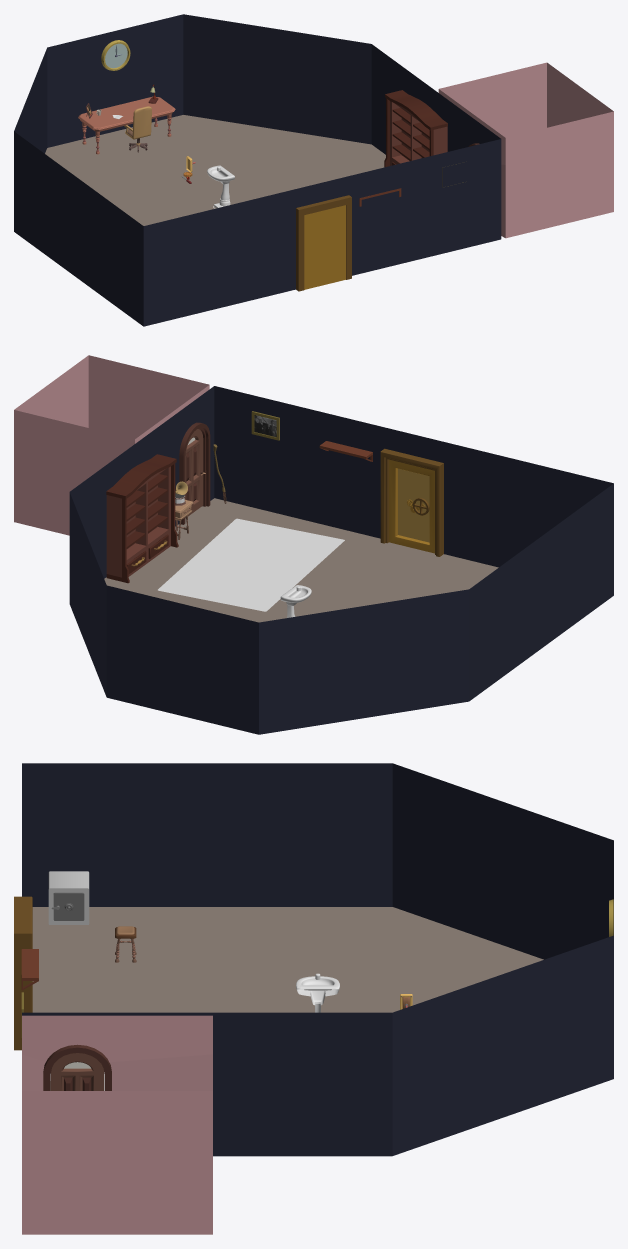
Rendered from Blended.fbx.
The picture shows the model from 3 angles, top to bottom: view 1: azimuth 30°, elevation 25°; view 2: azimuth 150°, elevation 25°; view 3: azimuth 270°, elevation 25°; orthographic projection. The views are drawn at different scales.
Parts seen in each view (by area): view 1: Room, Door_Main_Body, Bookshelf_Body, Door_Main_Frame, Table_BP_Top, Bookshelf_Shelves, Bookshelf_Top, Clock_Big_Base, Chair_Base; view 2: Room, Rug_01, Bookshelf_Body, Door_Main_Body, Door_Main_Frame, Bookshelf_Shelves, Door_Bath_Body, Bookshelf_Top, Door_Bath_Frame, Frame_Wall; view 3: Room, Door_Main_Frame, Door_Bath_Body, Safe_Body, Door_Bath_Frame, Sink_Body, Safe_Door, Shelf_Wall.
Boxes of the visible parts, <box> form: Room: <box>14,14,613,326</box>; Door_Main_Body: <box>304,205,345,289</box>; Bookshelf_Body: <box>384,98,447,167</box>; Door_Main_Frame: <box>296,195,351,291</box>; Table_BP_Top: <box>78,96,175,131</box>; Bookshelf_Shelves: <box>392,108,429,160</box>; Bookshelf_Top: <box>385,90,447,130</box>; Clock_Big_Base: <box>101,40,130,70</box>; Chair_Base: <box>125,106,151,146</box>; Room: <box>14,355,613,734</box>; Rug_01: <box>158,518,344,611</box>; Bookshelf_Body: <box>106,463,178,583</box>; Door_Main_Body: <box>389,459,434,553</box>; Door_Main_Frame: <box>380,448,443,556</box>; Bookshelf_Shelves: <box>126,474,167,548</box>; Door_Bath_Body: <box>185,429,203,518</box>; Bookshelf_Top: <box>106,454,176,499</box>; Door_Bath_Frame: <box>179,422,210,524</box>; Frame_Wall: <box>251,411,279,440</box>; Room: <box>22,763,613,1234</box>; Door_Main_Frame: <box>14,896,32,1050</box>; Door_Bath_Body: <box>51,1053,103,1090</box>; Safe_Body: <box>48,871,89,924</box>; Door_Bath_Frame: <box>43,1044,111,1090</box>; Sink_Body: <box>296,976,339,1005</box>; Safe_Door: <box>53,892,84,920</box>; Shelf_Wall: <box>21,949,38,990</box>.
Size of the model in its own units: 28308 by 5833 by 21890.
